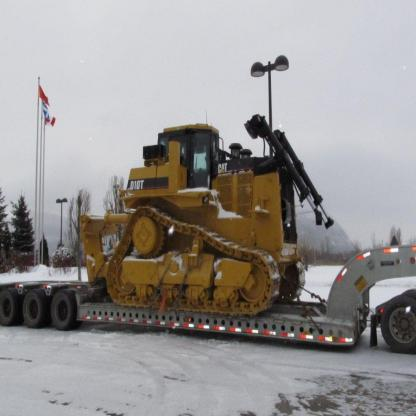bull_dozer/loader/grader: (63, 99, 350, 319)
